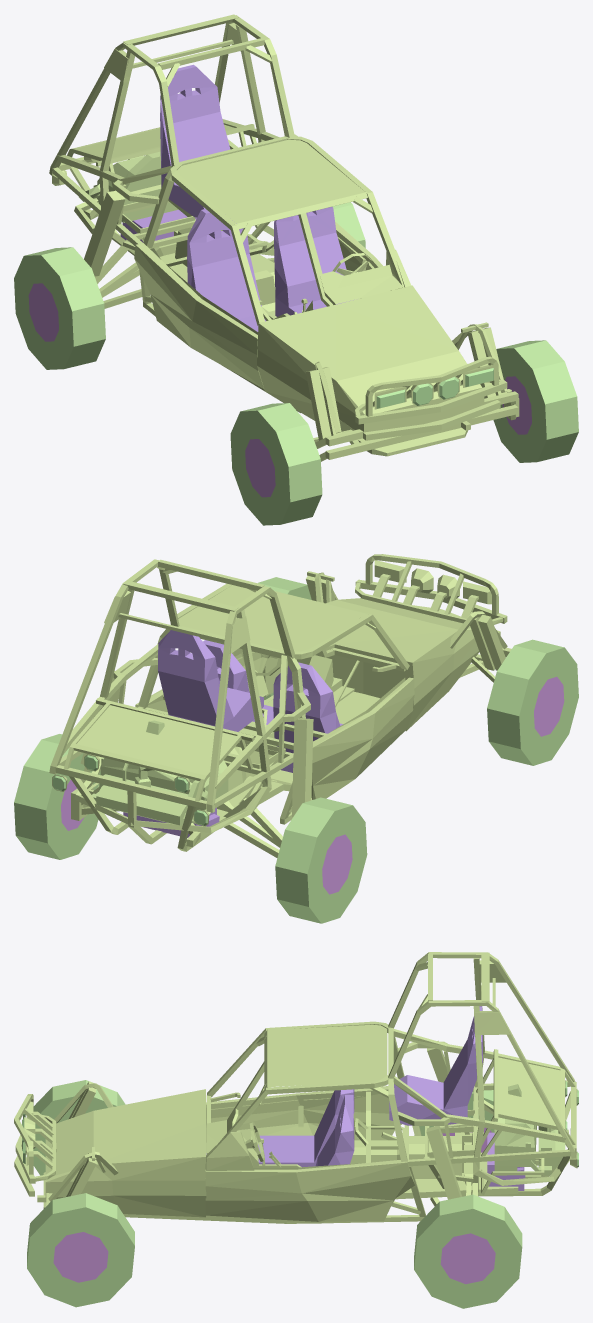
The model's file is land-wheeled-dunebuggy.glb.
3 renders of one model, top to bottom at view 1: azimuth 30°, elevation 25°; view 2: azimuth 150°, elevation 25°; view 3: azimuth 270°, elevation 25°, orthographic. The views are drawn at different scales.
Parts seen in each view (by area): view 1: CC_WHL_06_Body_full, CC_WHL_06_Wheel_RF_3, CC_WHL_06_Wheel_RF_1, CC_WHL_06_Wheel_RF_0, CC_WHL_06_Wheel_RF_2; view 2: CC_WHL_06_Body_full, CC_WHL_06_Wheel_RF_1, CC_WHL_06_Wheel_RF_3, CC_WHL_06_Wheel_RF_2, CC_WHL_06_Wheel_RF_0; view 3: CC_WHL_06_Body_full, CC_WHL_06_Wheel_RF_2, CC_WHL_06_Wheel_RF_0, CC_WHL_06_Wheel_RF_1, CC_WHL_06_Wheel_RF_3.
Part boxes in pixels (<box>): CC_WHL_06_Body_full: <box>49,14,519,461</box>; CC_WHL_06_Wheel_RF_3: <box>14,247,105,369</box>; CC_WHL_06_Wheel_RF_1: <box>230,403,322,525</box>; CC_WHL_06_Wheel_RF_0: <box>493,340,578,462</box>; CC_WHL_06_Wheel_RF_2: <box>332,202,365,248</box>; CC_WHL_06_Body_full: <box>49,554,511,857</box>; CC_WHL_06_Wheel_RF_1: <box>487,639,578,765</box>; CC_WHL_06_Wheel_RF_3: <box>275,797,367,923</box>; CC_WHL_06_Wheel_RF_2: <box>14,734,100,859</box>; CC_WHL_06_Wheel_RF_0: <box>258,577,311,700</box>; CC_WHL_06_Body_full: <box>14,952,578,1223</box>; CC_WHL_06_Wheel_RF_2: <box>414,1194,522,1308</box>; CC_WHL_06_Wheel_RF_0: <box>27,1193,134,1307</box>; CC_WHL_06_Wheel_RF_1: <box>33,1080,125,1175</box>; CC_WHL_06_Wheel_RF_3: <box>414,1090,494,1152</box>.
Size of the model in its own units: 2.55 by 2.45 by 4.7.
